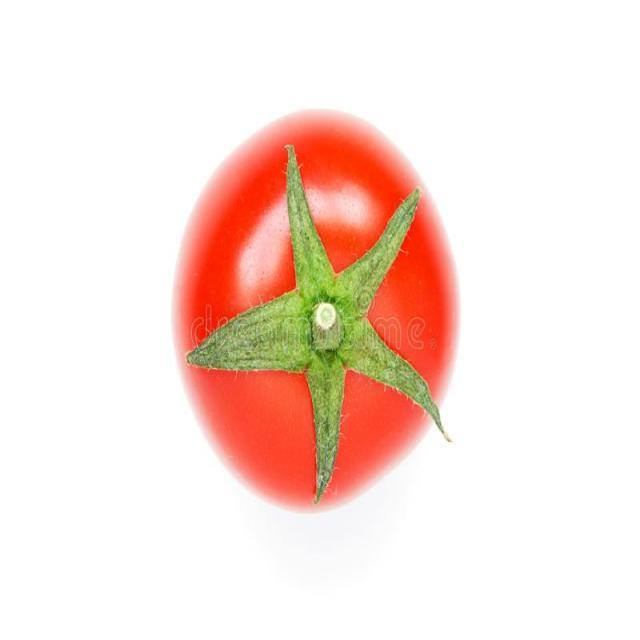kirmizi: (170, 96, 466, 516)
